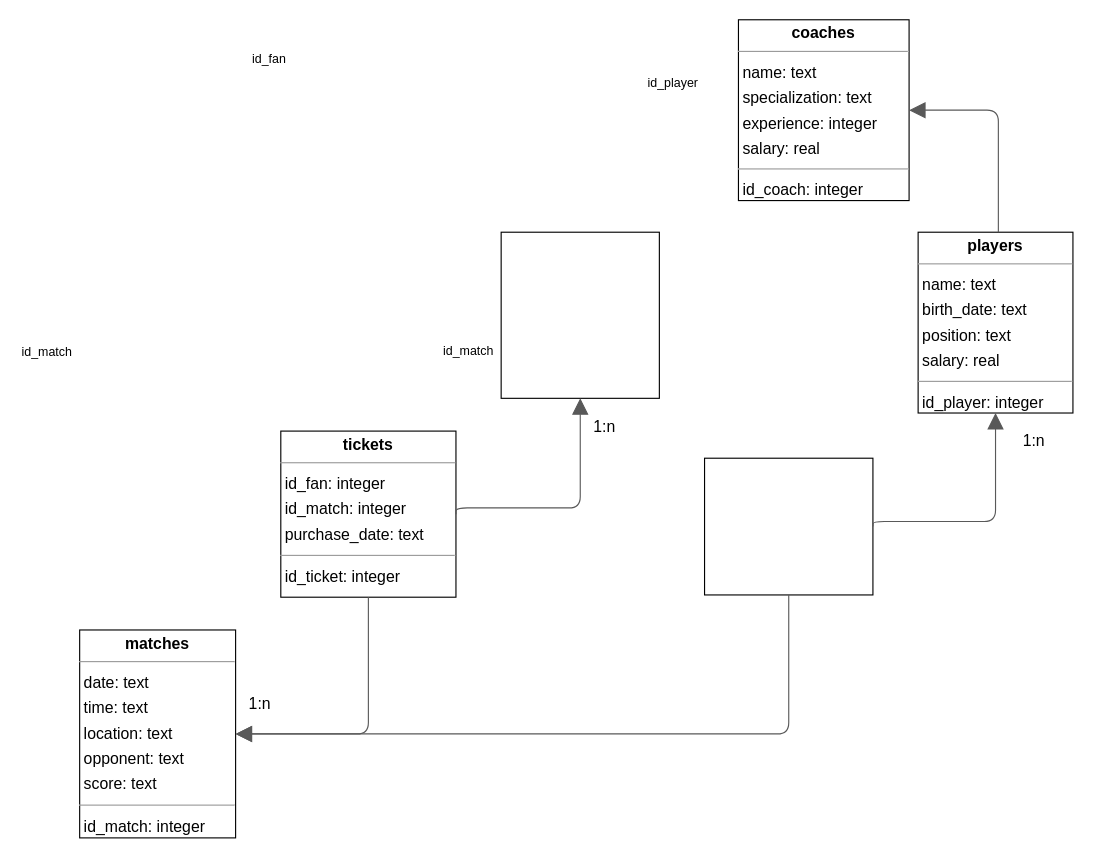
Image size: 1093x858. Some labels were removed from this diagram. Each missing label, with the box of its shape:
fans name: text contact_info: text ticket_type: text id_fan: integer: (500, 231, 659, 398)
match_squads id_match: integer id_player: integer id_squad: integer: (703, 457, 873, 595)
